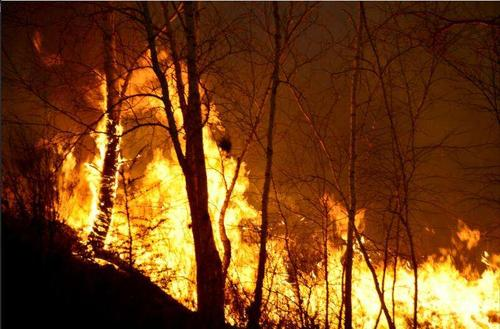fire: (117, 152, 196, 309), (351, 256, 500, 329), (207, 143, 259, 286), (52, 122, 106, 232), (263, 253, 340, 329), (456, 223, 481, 246)
